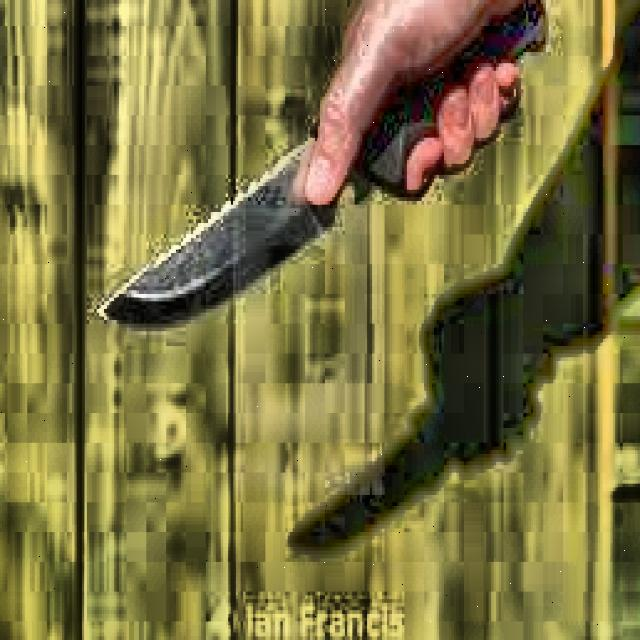knife: (96, 0, 548, 327)
